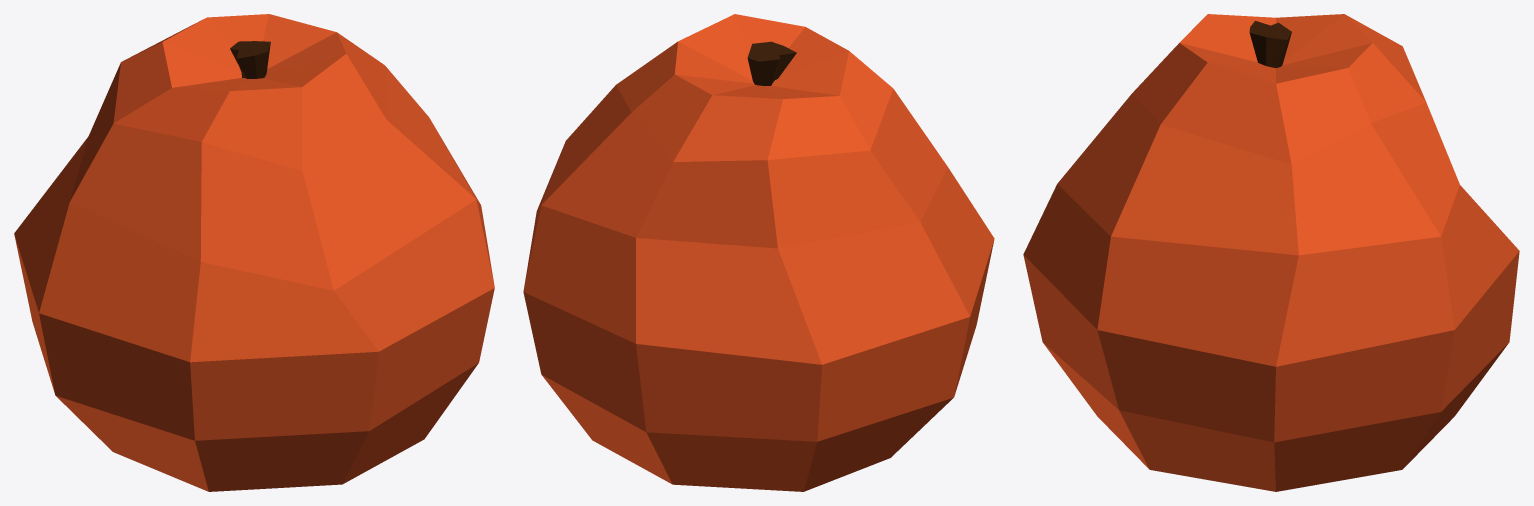
File: gourd.fbx
3 renders of one model, left to right at view 1: azimuth 30°, elevation 25°; view 2: azimuth 150°, elevation 25°; view 3: azimuth 270°, elevation 25°, orthographic. The views are drawn at different scales.
Parts seen in each view (by area): view 1: Fruit; view 2: Fruit; view 3: Fruit.
Boxes of the visible parts, left/top/right/bottom form: Fruit: left=14, top=14, right=494, bottom=491; Fruit: left=523, top=14, right=994, bottom=491; Fruit: left=1023, top=14, right=1519, bottom=491.
Bounding box in the file's own units: 84.14 × 72.11 × 80.53.
